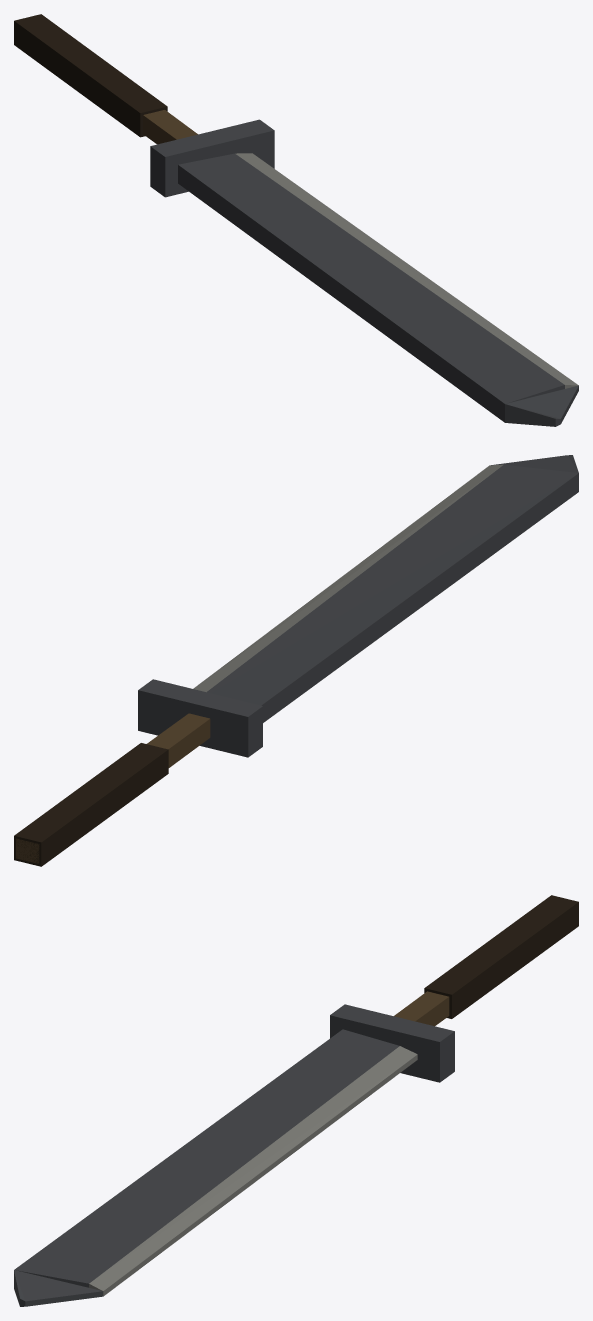
The model's file is wtype_blade.glb.
The picture shows the model from 3 angles, top to bottom: view 1: azimuth 30°, elevation 25°; view 2: azimuth 150°, elevation 25°; view 3: azimuth 330°, elevation 25°; orthographic projection.
Visible parts, largest first — view 1: wtype_blade; view 2: wtype_blade; view 3: wtype_blade.
Boxes of the visible parts, x1,y1,x2,y2 form: wtype_blade: (14,14,578,426); wtype_blade: (14,455,578,866); wtype_blade: (14,895,578,1306).
Size of the model in its own units: 0.085 by 0.03 by 0.72.
